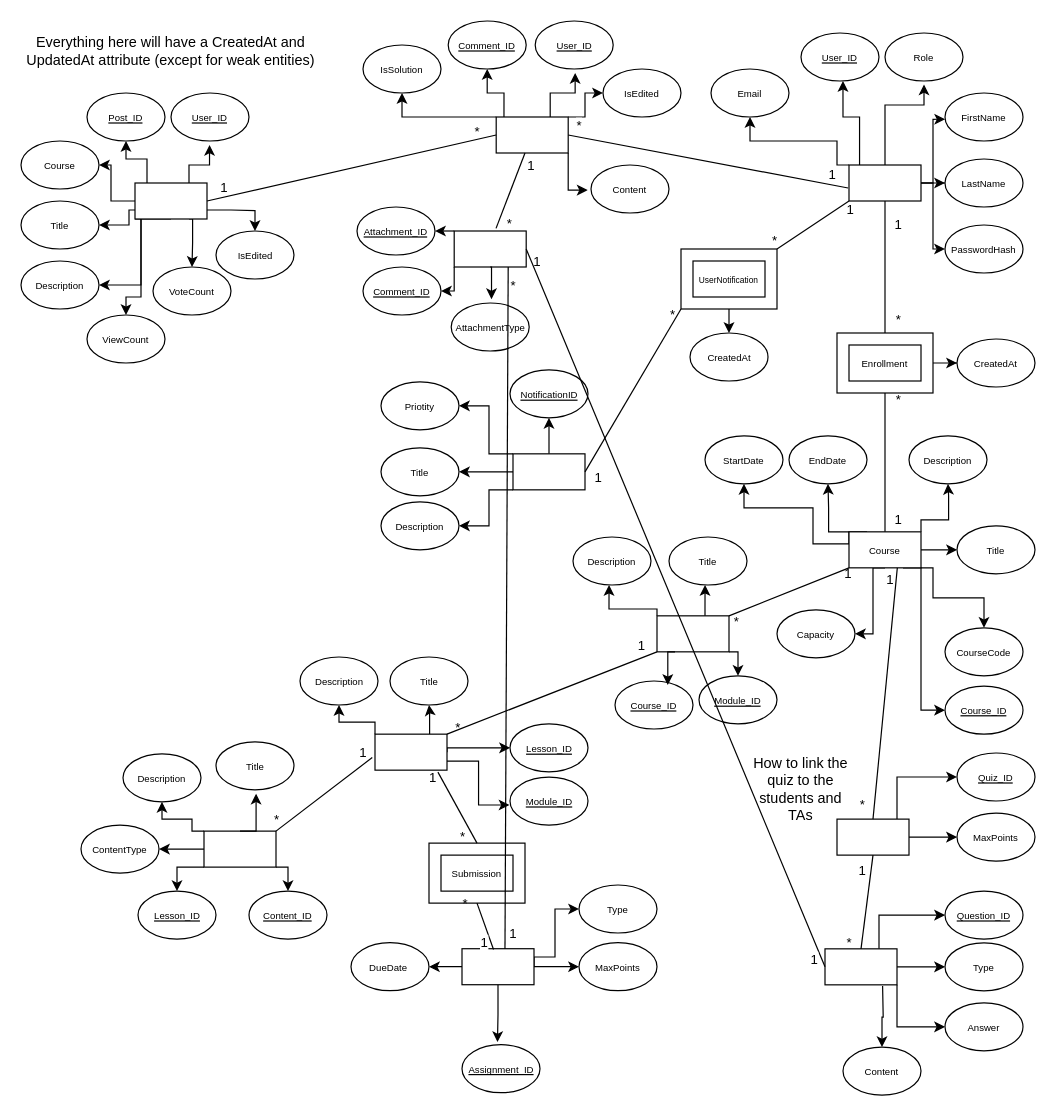
This 1056x1117 diagram has some shape labels left out. The centre of each missing label's shape, as x and y in pixels:
"Assignment" belongs at (x=497, y=966).
"Attachment" belongs at (x=489, y=248).
"Comment" belongs at (x=531, y=134).
"Edu Content" belongs at (x=239, y=848).
"Lesson" belongs at (x=410, y=751).
"Module" belongs at (x=692, y=633).
"Notification" belongs at (x=548, y=471).
"Post" belongs at (x=170, y=200).
"Quesions" belongs at (x=860, y=966).
"Quiz" belongs at (x=872, y=836).
"User" belongs at (x=884, y=182).
